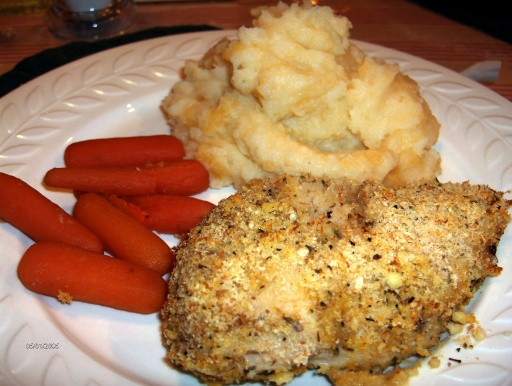background: (0, 0, 410, 233)
